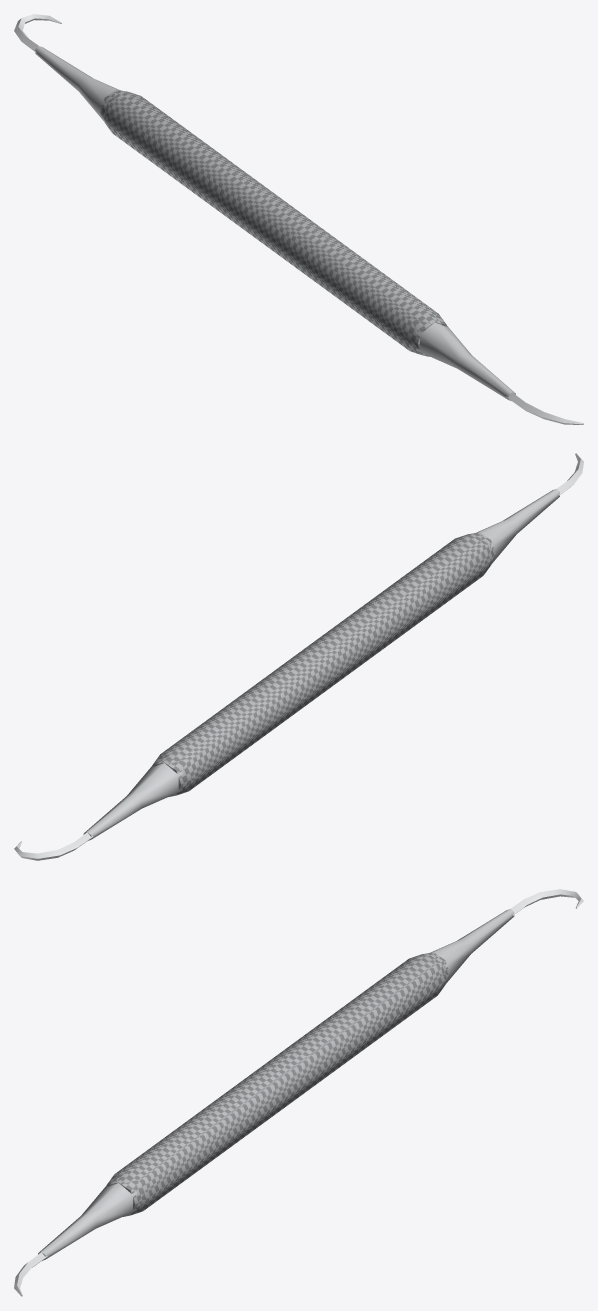
Rendered from dental_explorer.glb.
The picture shows the model from 3 angles, top to bottom: view 1: azimuth 30°, elevation 25°; view 2: azimuth 150°, elevation 25°; view 3: azimuth 330°, elevation 25°; orthographic projection.
Parts seen in each view (by area): view 1: d2_dental_explorer; view 2: d2_dental_explorer; view 3: d2_dental_explorer.
Boxes of the visible parts, bbox=[...] form: d2_dental_explorer: bbox=[14, 14, 583, 424]; d2_dental_explorer: bbox=[14, 453, 583, 860]; d2_dental_explorer: bbox=[14, 889, 583, 1296].
Bounding box in the file's own units: 0.0112 × 0.007 × 0.1646.
1 material, 1 textured.
